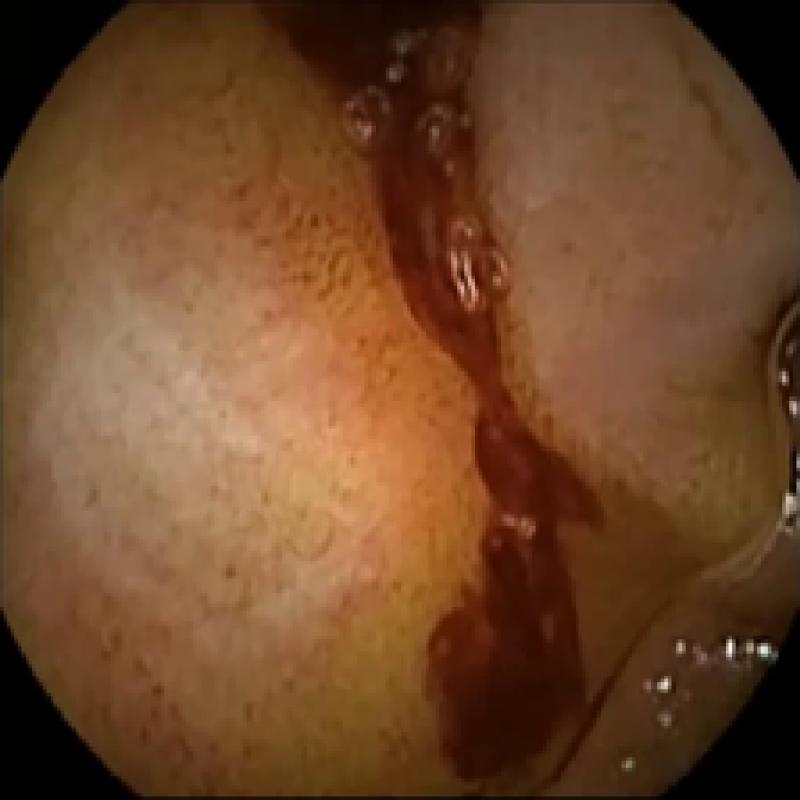bleeding: (257, 0, 601, 800)
